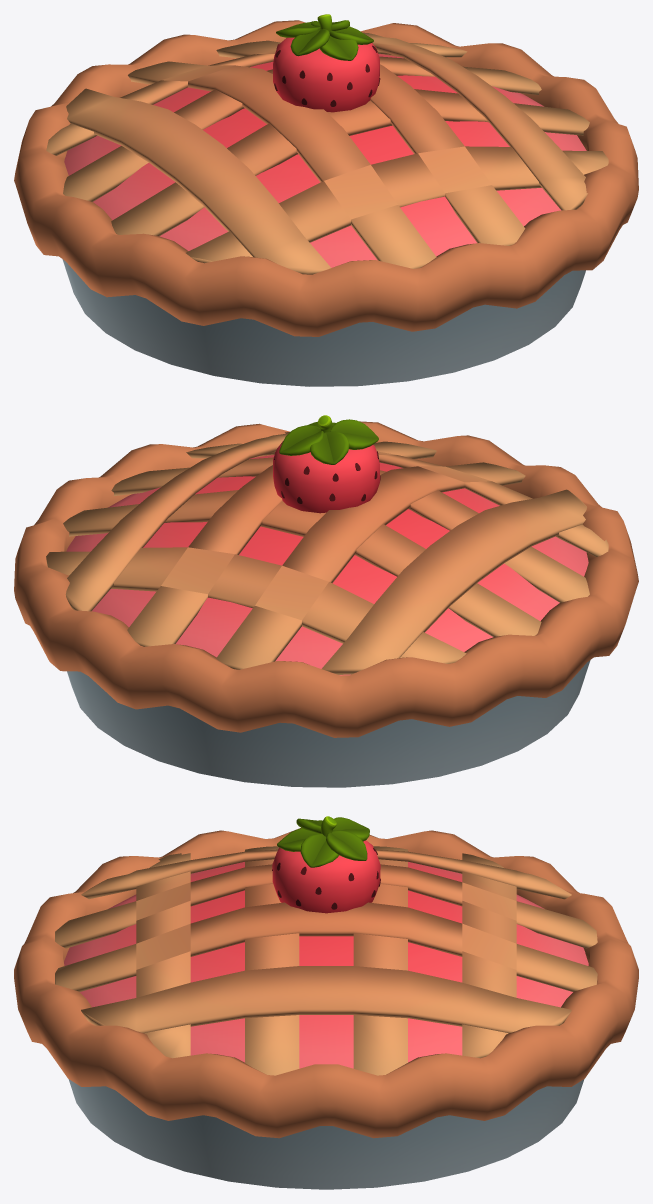
Rendered from Pie_Strawberry_V1_00.fbx.
3 views of the same model, one above another, from view 1: azimuth 30°, elevation 25°; view 2: azimuth 150°, elevation 25°; view 3: azimuth 270°, elevation 25° (orthographic).
Visible parts, largest first — view 1: Pie_Strawberry_V1_00; view 2: Pie_Strawberry_V1_00; view 3: Pie_Strawberry_V1_00.
Part boxes in pixels (x1,y1,x2,y2): Pie_Strawberry_V1_00: [14, 14, 638, 386]; Pie_Strawberry_V1_00: [14, 415, 638, 787]; Pie_Strawberry_V1_00: [14, 816, 638, 1189].
Bounding box in the file's own units: 99.45 × 46.46 × 99.45.
